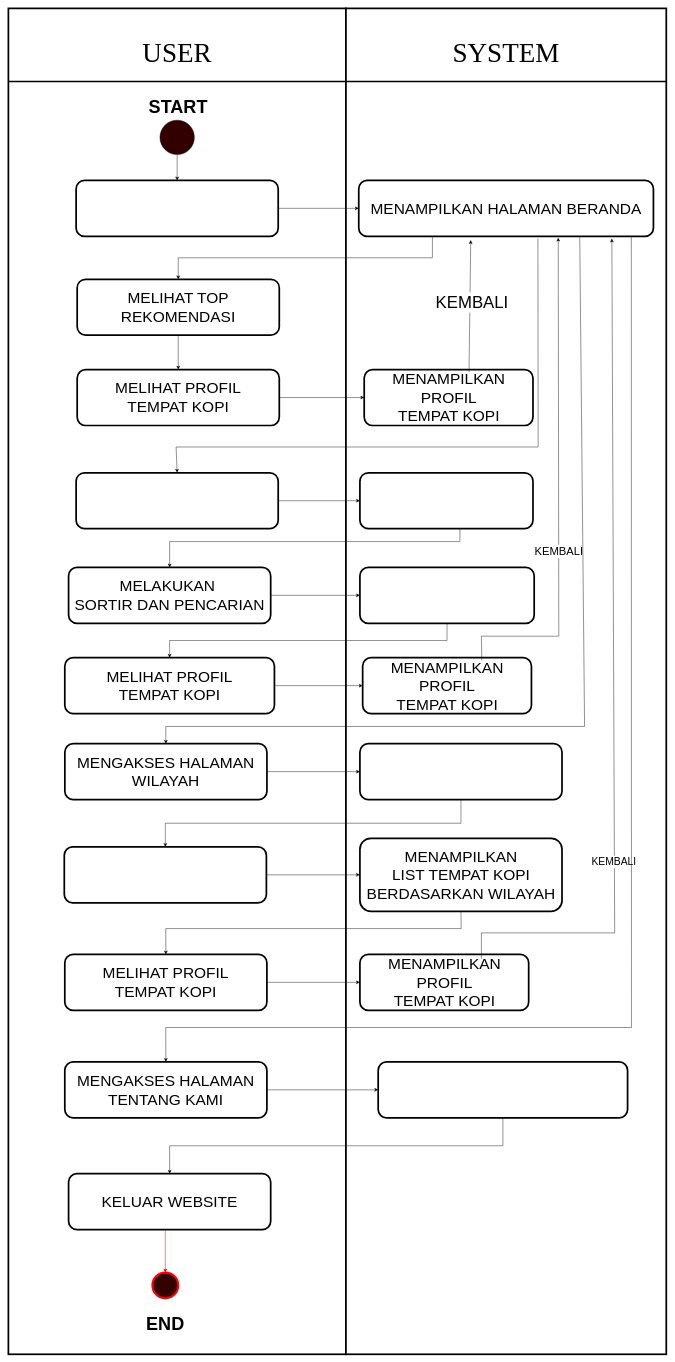
Some shapes in this 675 by 1362 pixel diagram are drawn without their labels. The centre of each missing label's shape, as x and y in pixels:
MEMILIH WILAYAH: (x=165, y=874)
MENAMPILKAN HALAMAN PENCARIAN: (x=446, y=500)
MENAMPILKAN HALAMAN TENTANG KAMI: (x=502, y=1089)
MENAMPILKAN HALAMAN WILAYAH: (x=461, y=771)
MENAMPILKAN LIST TEMPAT KOPI: (x=447, y=595)
MENGAKSES HALAMAN PENCARIAN: (x=177, y=500)
MENGAKSES WEBSITE: (x=177, y=208)
